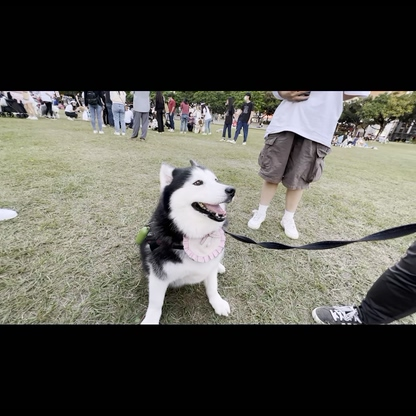husky: (132, 154, 240, 322)
